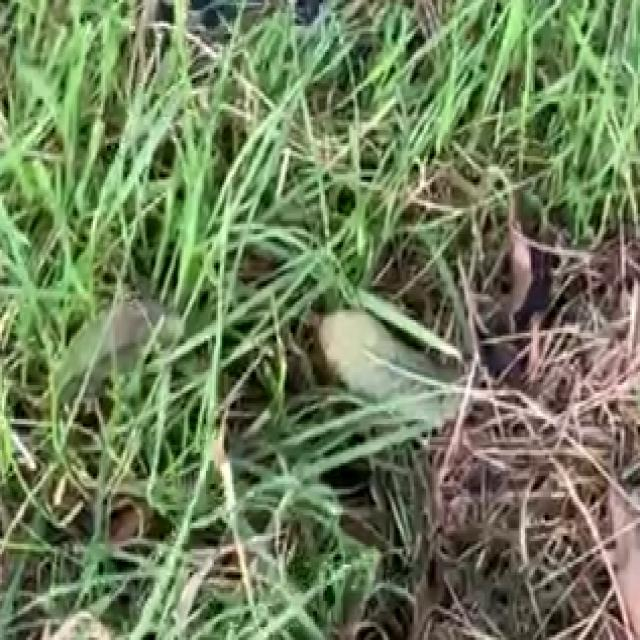organic waste: (253, 242, 552, 502), (22, 229, 254, 520)
